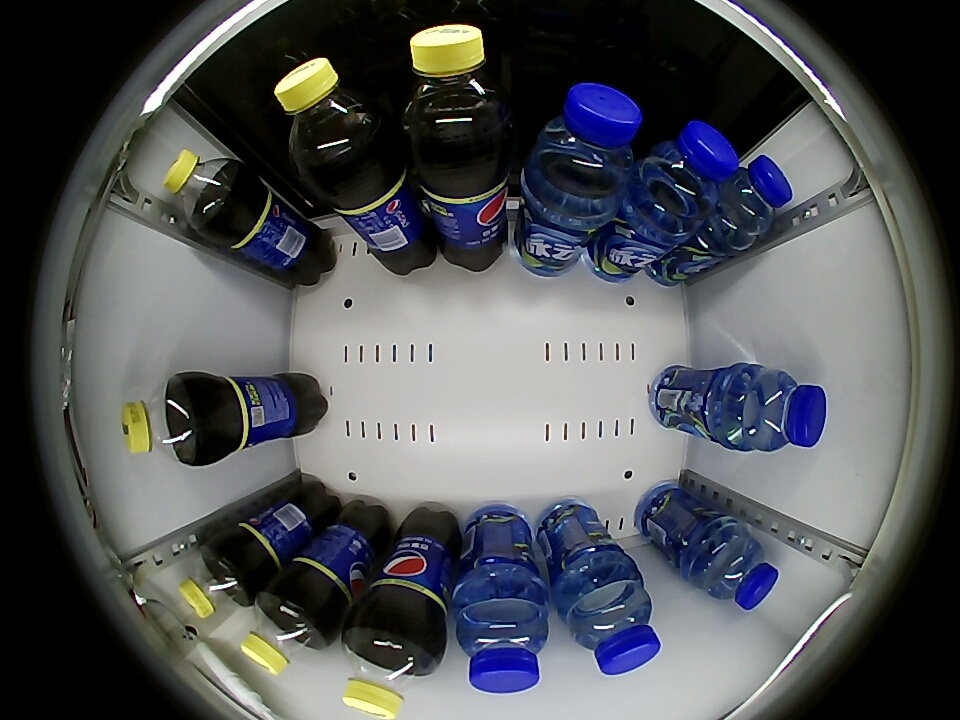baishikele: (400, 23, 514, 147), (273, 56, 383, 172), (342, 620, 440, 719), (240, 586, 332, 675), (120, 374, 206, 464), (162, 149, 245, 232), (178, 541, 255, 618)
maidong: (525, 81, 644, 211), (635, 120, 739, 226), (562, 571, 661, 677), (455, 591, 550, 695), (731, 367, 828, 453), (692, 525, 780, 611), (713, 156, 794, 241)
